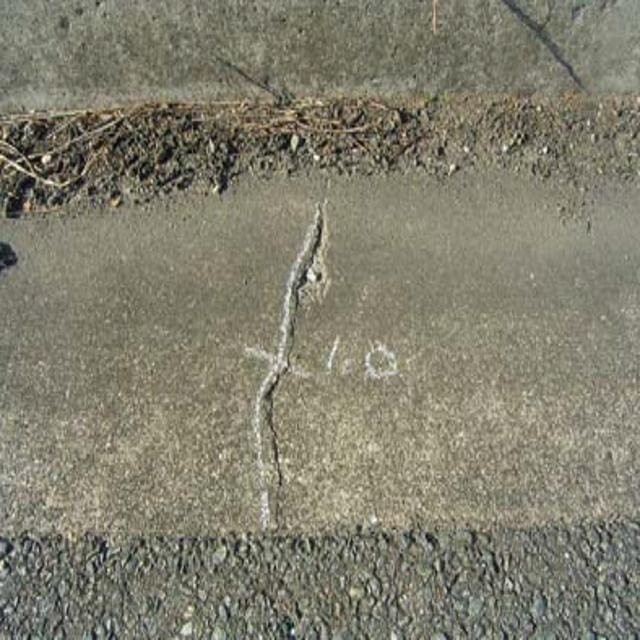crack: (252, 186, 342, 534)
